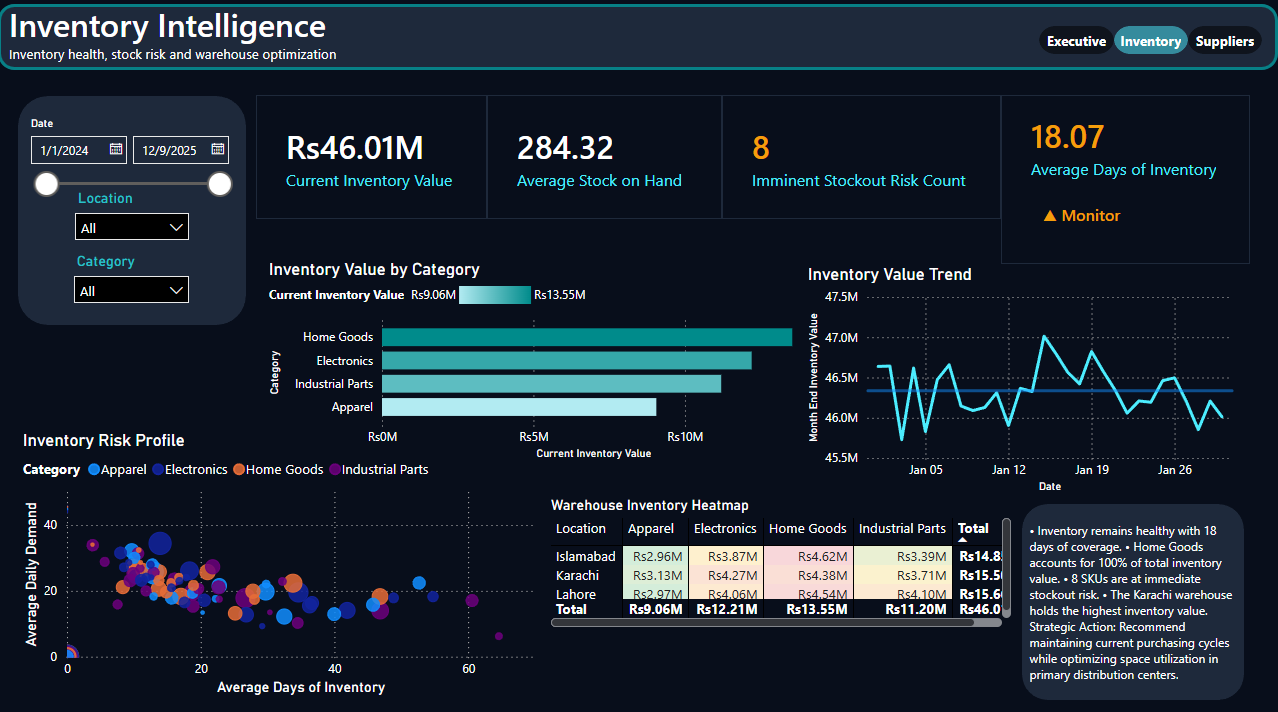

The dashboard page shown, as its layout file describes it:
{"tool":"powerbi","page":{"name":"Inventory & Warehouse","canvas":[1280,720],"ordinal":1},"visuals":[{"type":"shape","box":[0,6.7,1280,66.7],"z":0},{"type":"textbox","box":[8.9,3.3,438.9,78.9],"z":1000},{"type":"actionButton","box":[1041.4,28.6,74.3,28.6],"z":2000},{"type":"actionButton","box":[1115.7,28.6,74.3,28.6],"z":3000},{"type":"actionButton","box":[1190,28.6,74.3,28.6],"z":4000},{"type":"shape","box":[20,98.8,228.2,229.4],"z":5000},{"type":"slicer","title":"Warehouse Location","fields":{"Values":["dim_warehouses.Location"]},"box":[67.1,188.2,134.1,78.8],"z":6000},{"type":"slicer","title":"Warehouse Location","fields":{"Values":["dim_products.Category"]},"box":[65.9,250.6,135.3,65.9],"z":7000},{"type":"cardVisual","fields":{"Data":["_Measures.Current Inventory Value"]},"box":[258.2,98.2,230.9,123.6],"z":8000},{"type":"cardVisual","fields":{"Data":["_Measures.Average Days of Inventory"]},"box":[1002.9,98.4,249.2,168.5],"z":9000},{"type":"cardVisual","fields":{"Data":["_Measures.Imminent Stockout Risk Count"]},"box":[723.6,98.2,279.1,123.6],"z":10000},{"type":"cardVisual","fields":{"Data":["_Measures.Average Stock"]},"box":[489.1,98.2,234.5,123.6],"z":11000},{"type":"lineChart","title":"Inventory Value Trend","fields":{"Category":["Calendar.Date"],"Y":["_Measures.Month End Inventory Value"]},"box":[805,267,441,233],"z":12000},{"type":"clusteredBarChart","title":"Inventory Value by Category","fields":{"Category":["dim_products.Category"],"Y":["_Measures.Current Inventory Value"]},"box":[266,262,565,205],"z":13000},{"type":"scatterChart","title":"Inventory Risk Profile","fields":{"X":["_Measures.Average Days of Inventory"],"Y":["_Measures.Average Daily Demand"],"Category":["dim_products.SKU"],"Series":["dim_products.Category"],"Size":["_Measures.Current Inventory Value"]},"box":[20.4,432.7,528.5,270.4],"z":14000},{"type":"pivotTable","title":"Warehouse Inventory Heatmap","fields":{"Rows":["dim_warehouses.Location"],"Columns":["dim_products.Category"],"Values":["_Measures.Current Inventory Value"]},"box":[548.2,500,469.4,135.3],"z":15000},{"type":"shape","box":[1024.1,507.2,221.7,196],"z":16000},{"type":"slicer","fields":{"Values":["Calendar.Date"]},"box":[20,115.5,228.2,88.2],"z":17000}]}

Visuals, with their boxes in screenshot pixels (x1, y1, x2, y2), scaled from the page's 1280x720 canvas onto the 1278x712 screenshot:
shape: bbox=[0, 7, 1277, 73]
textbox: bbox=[9, 3, 447, 81]
actionButton: bbox=[1040, 28, 1114, 57]
actionButton: bbox=[1114, 28, 1188, 57]
actionButton: bbox=[1188, 28, 1262, 57]
shape: bbox=[20, 98, 248, 325]
"Warehouse Location" slicer: bbox=[67, 186, 201, 264]
"Warehouse Location" slicer: bbox=[66, 248, 201, 313]
cardVisual - _Measures.Current Inventory Value: bbox=[258, 97, 488, 219]
cardVisual - _Measures.Average Days of Inventory: bbox=[1001, 97, 1250, 264]
cardVisual - _Measures.Imminent Stockout Risk Count: bbox=[722, 97, 1001, 219]
cardVisual - _Measures.Average Stock: bbox=[488, 97, 722, 219]
"Inventory Value Trend" lineChart: bbox=[804, 264, 1244, 494]
"Inventory Value by Category" clusteredBarChart: bbox=[266, 259, 830, 462]
"Inventory Risk Profile" scatterChart: bbox=[20, 428, 548, 695]
"Warehouse Inventory Heatmap" pivotTable: bbox=[547, 494, 1016, 628]
shape: bbox=[1022, 502, 1244, 695]
slicer - Calendar.Date: bbox=[20, 114, 248, 201]
